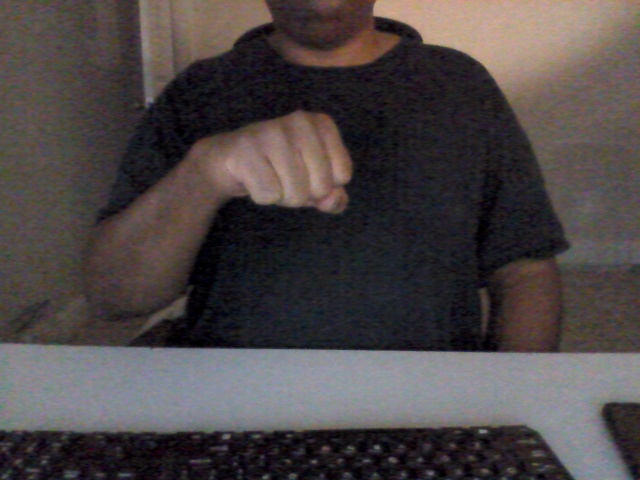yes: (204, 104, 358, 221)
